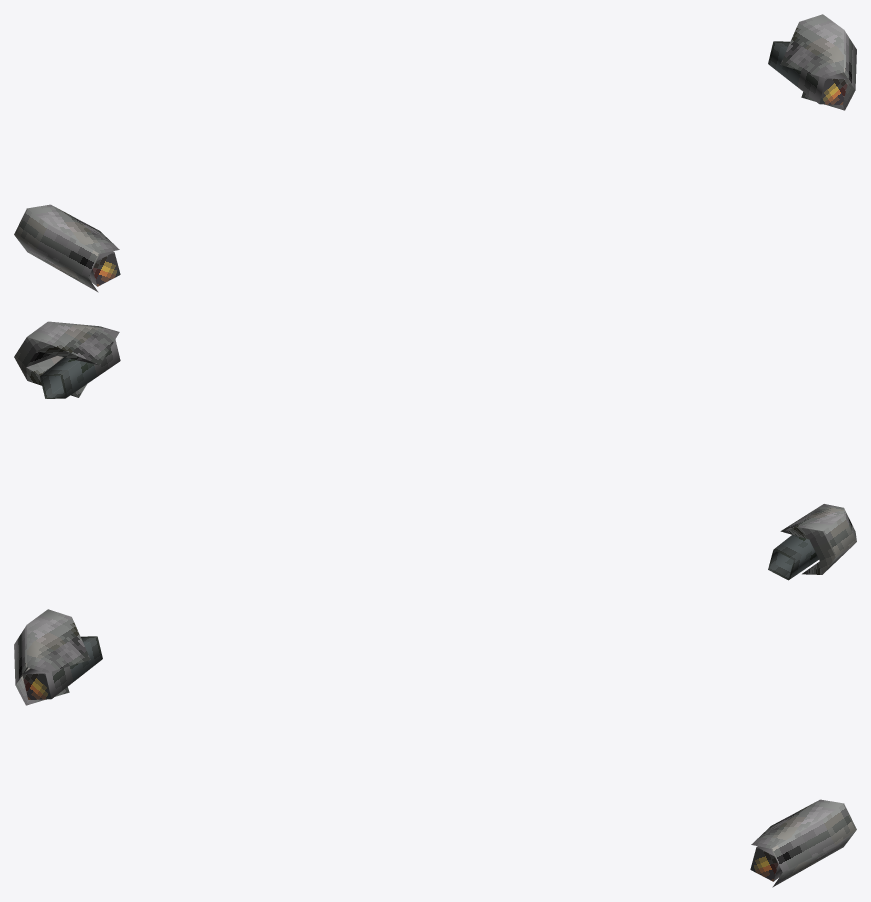
Rendered from hutt_fighter_medium_weapon1_s06_l2.fbx.
3 views of the same model, one above another, from view 1: azimuth 30°, elevation 25°; view 2: azimuth 150°, elevation 25°; view 3: azimuth 330°, elevation 25° (orthographic).
Parts seen in each view (by area): view 1: mesh_node; view 2: mesh_node; view 3: mesh_node.
Part boxes in pixels (x1=…): mesh_node: x1=14, y1=14, x2=856, y2=292; mesh_node: x1=14, y1=321, x2=856, y2=580; mesh_node: x1=14, y1=609, x2=856, y2=887.
Size of the model in its own units: 3.35 by 0.2462 by 0.3886.
